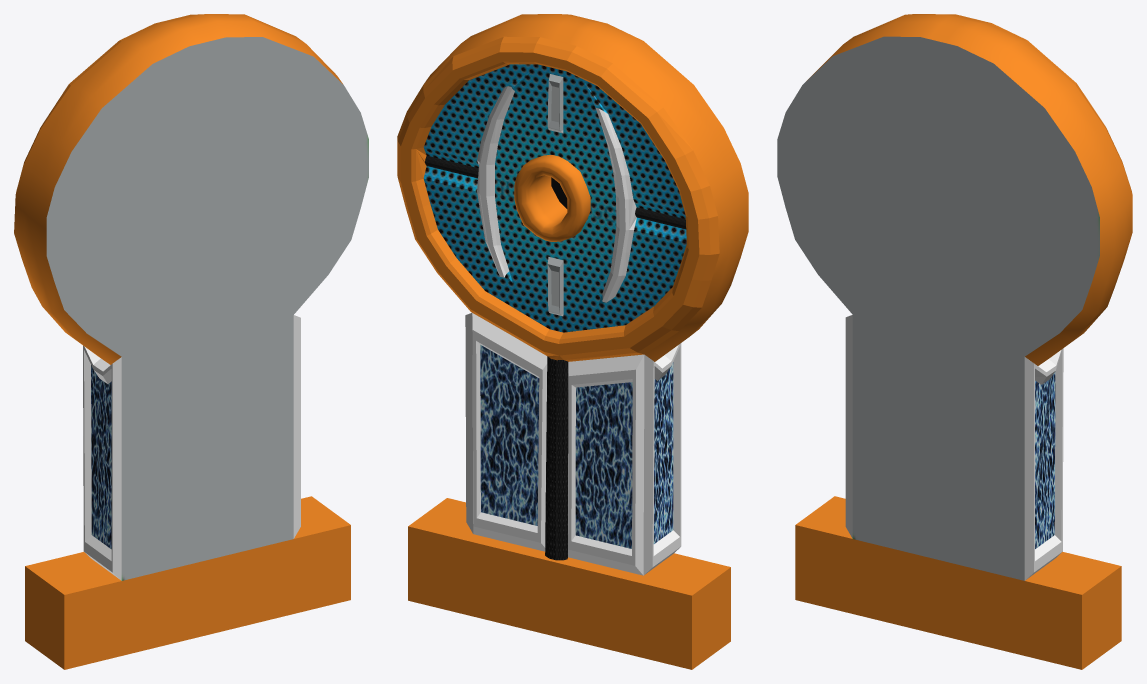
File: Space_Switch.FBX
The picture shows the model from 3 angles, left to right: view 1: azimuth 30°, elevation 25°; view 2: azimuth 150°, elevation 25°; view 3: azimuth 330°, elevation 25°; orthographic projection.
Visible parts, largest first — view 1: Box001; view 2: Box001; view 3: Box001.
Part boxes in pixels (x1,y1,x2,y2): Box001: [14, 14, 368, 669]; Box001: [397, 14, 748, 669]; Box001: [777, 14, 1132, 669].
Size of the model in its own units: 4.59 by 8.01 by 1.05.
